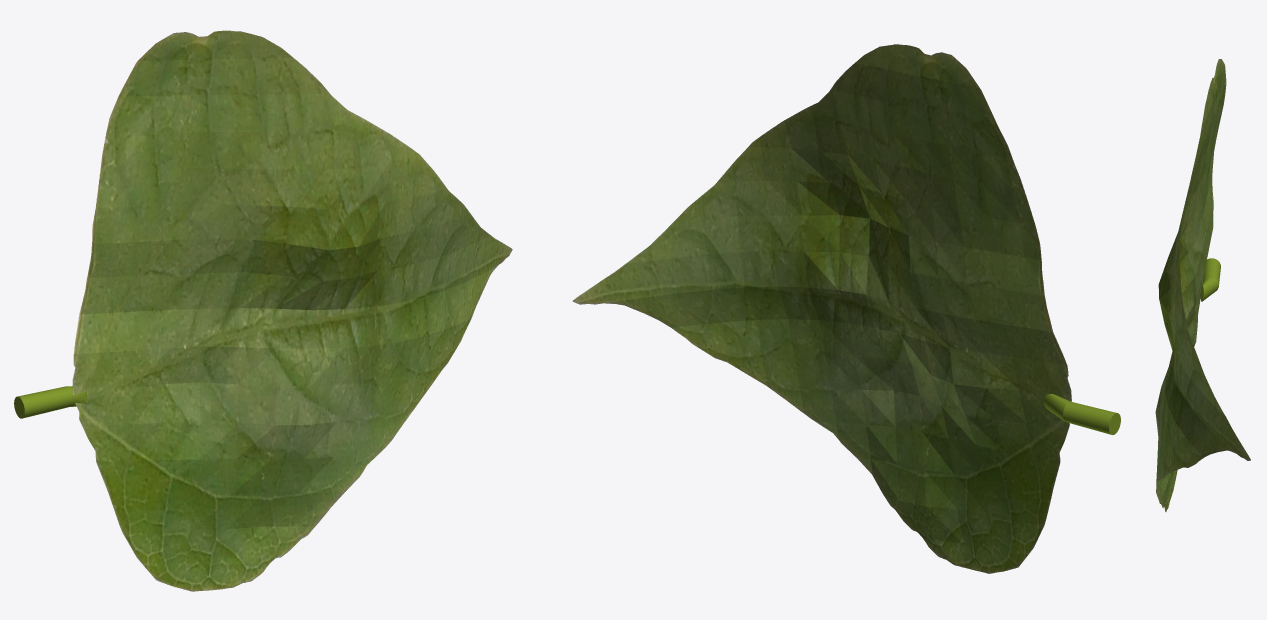
Rendered from BeanLeaf_left.obj.
3 renders of one model, left to right at view 1: azimuth 30°, elevation 25°; view 2: azimuth 150°, elevation 25°; view 3: azimuth 270°, elevation 25°, orthographic. The views are drawn at different scales.
Parts seen in each view (by area): view 1: leaf, petiolule; view 2: leaf, petiolule; view 3: leaf, petiolule.
Part boxes in pixels (x1,y1,x2,y2): leaf: [72, 30, 512, 591]; petiolule: [14, 386, 87, 418]; leaf: [572, 44, 1071, 573]; petiolule: [1043, 394, 1120, 434]; leaf: [1155, 59, 1250, 511]; petiolule: [1200, 258, 1220, 301].
Size of the model in its own units: 1.02 by 1.08 by 0.2103.
